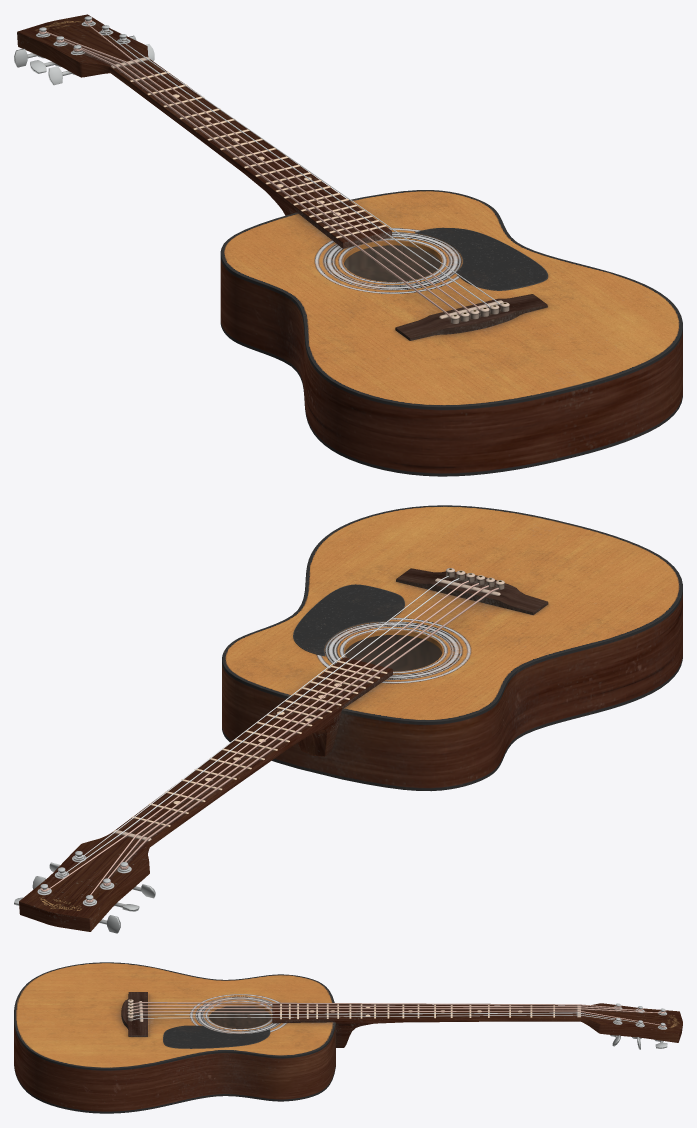
File: uploads_files_2277549_Acoustic+guitar.fbx
3 renders of one model, top to bottom at view 1: azimuth 30°, elevation 25°; view 2: azimuth 150°, elevation 25°; view 3: azimuth 270°, elevation 25°, orthographic. The views are drawn at different scales.
Parts seen in each view (by area): view 1: acoustic_guitar; view 2: acoustic_guitar; view 3: acoustic_guitar.
Part boxes in pixels (x1,y1,x2,y2): acoustic_guitar: [14, 14, 682, 476]; acoustic_guitar: [14, 505, 682, 933]; acoustic_guitar: [14, 962, 682, 1113].
Bounding box in the file's own units: 39.06 × 9.17 × 104.
